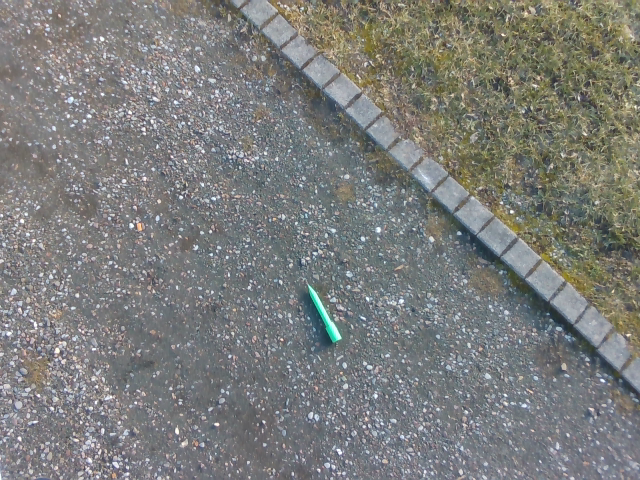Probe: (300, 277, 343, 347)
